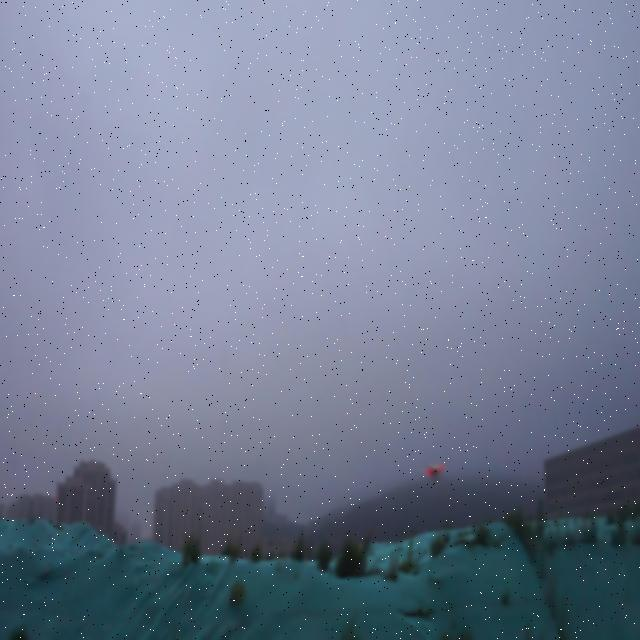UAV: (423, 465, 447, 483)
